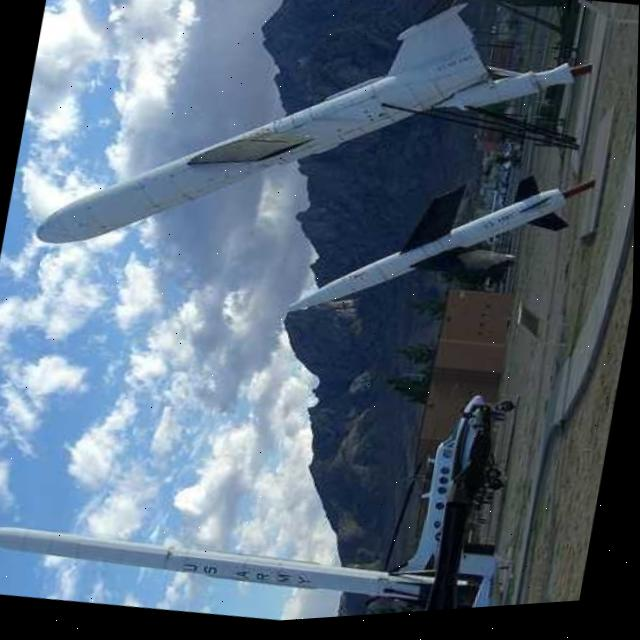missile: (34, 0, 597, 323), (282, 138, 602, 364), (0, 487, 427, 632)
